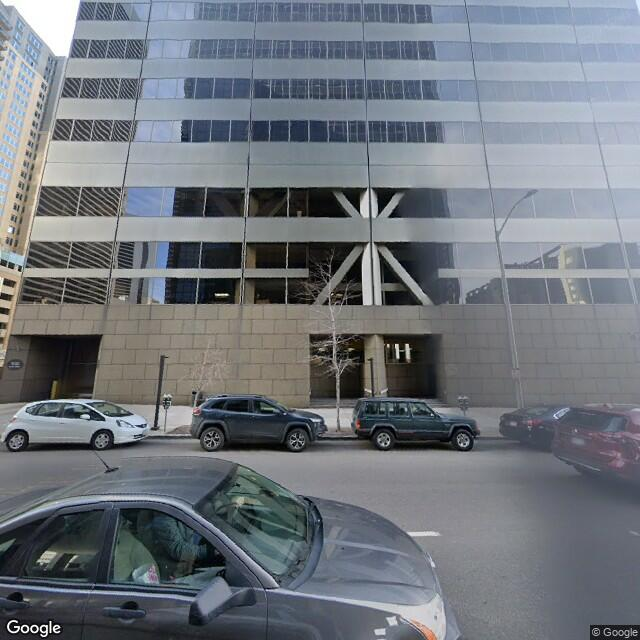lamp: (488, 183, 541, 393)
